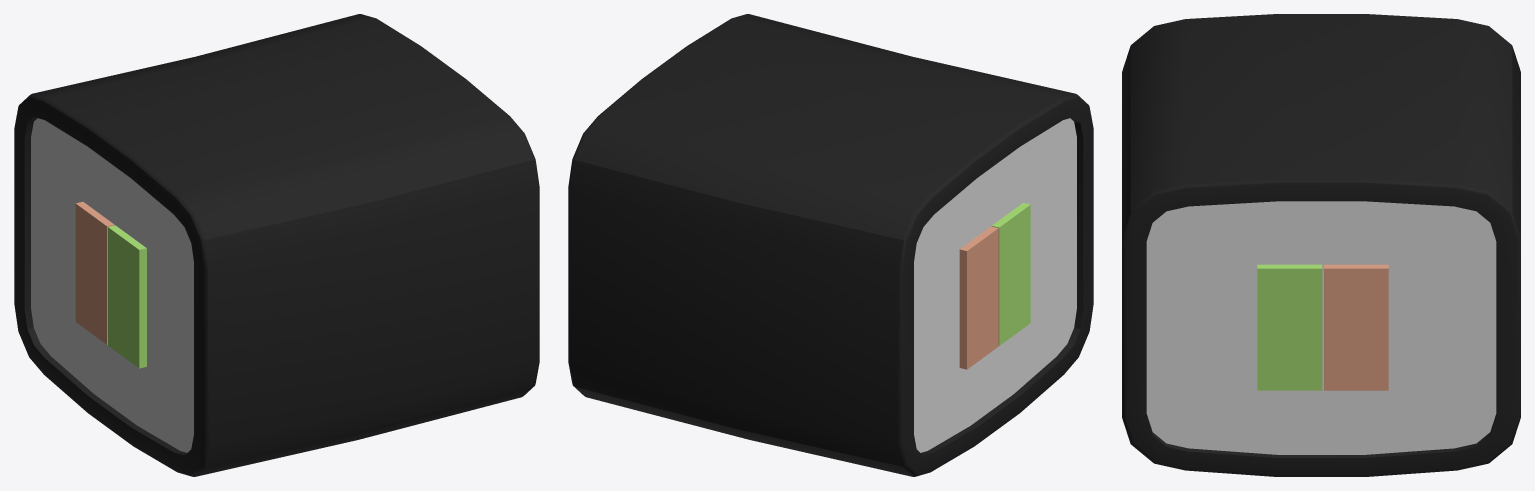
The model's file is sushi1.fbx.
The picture shows the model from 3 angles, left to right: view 1: azimuth 30°, elevation 25°; view 2: azimuth 150°, elevation 25°; view 3: azimuth 270°, elevation 25°; orthographic projection. The views are drawn at different scales.
Parts seen in each view (by area): view 1: sushi1; view 2: sushi1; view 3: sushi1.
Boxes of the visible parts, box(x1,y1,x2,y2) form: sushi1: box(14, 14, 539, 476); sushi1: box(568, 14, 1093, 476); sushi1: box(1122, 14, 1520, 476).
Bounding box in the file's own units: 51.54 × 51.22 × 42.57.
